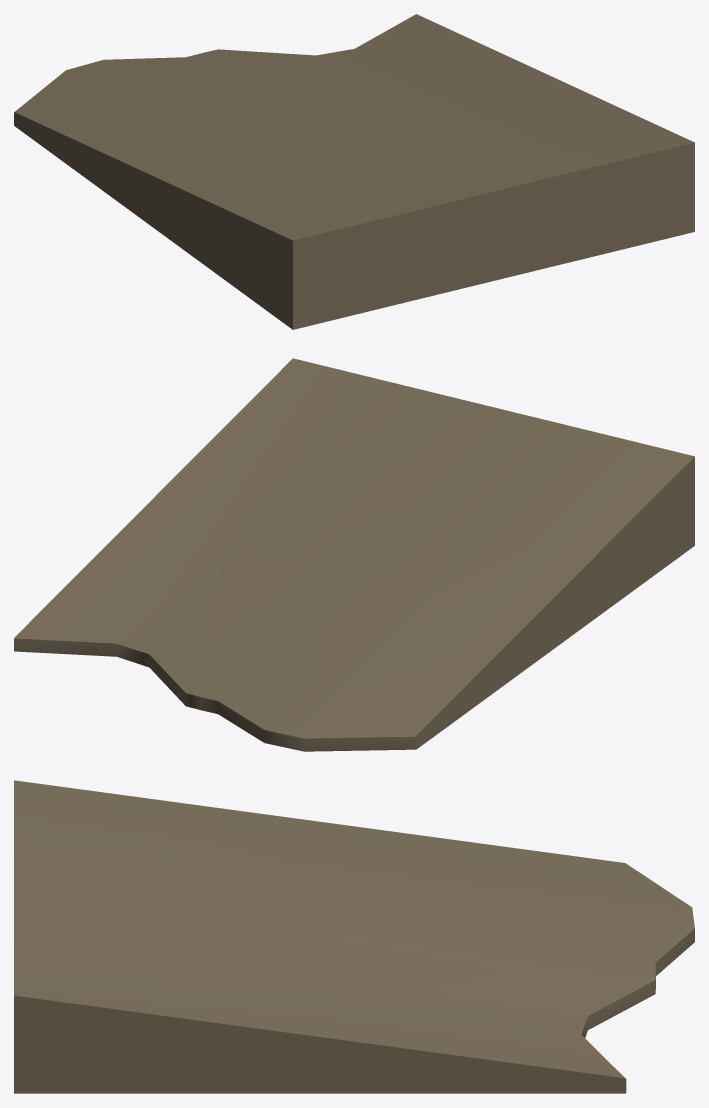
Rendered from Ground 2.fbx.
3 renders of one model, top to bottom at view 1: azimuth 30°, elevation 25°; view 2: azimuth 150°, elevation 25°; view 3: azimuth 270°, elevation 25°, orthographic. The views are drawn at different scales.
Visible parts, largest first — view 1: pCube7; view 2: pCube7; view 3: pCube7.
Part boxes in pixels (left/top/right/bottom): pCube7: left=14, top=14, right=694, bottom=329; pCube7: left=14, top=358, right=694, bottom=751; pCube7: left=14, top=780, right=694, bottom=1093.
Size of the model in its own units: 5.24 by 1.11 by 7.01.
